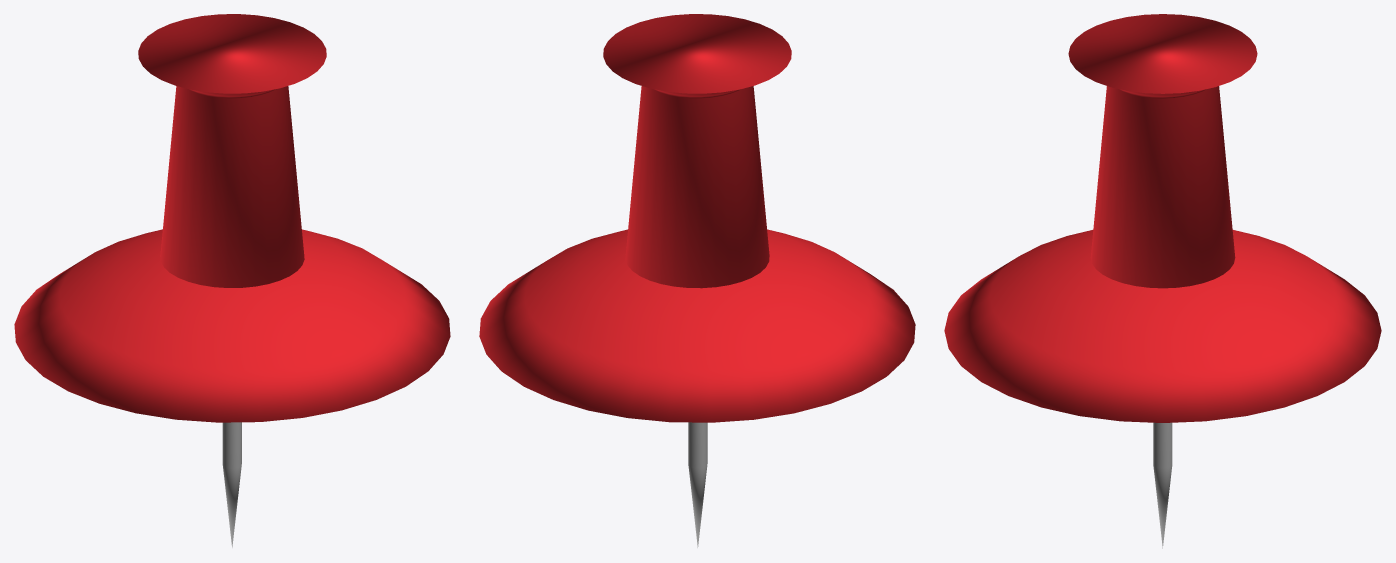
The model's file is pinLandmark.glb.
3 renders of one model, left to right at view 1: azimuth 30°, elevation 25°; view 2: azimuth 150°, elevation 25°; view 3: azimuth 270°, elevation 25°, orthographic.
Visible parts, largest first — view 1: pin, pinRecord; view 2: pin, pinRecord; view 3: pin, pinRecord.
Part boxes in pixels (x1,y1,x2,y2): pin: (14,14,450,422); pinRecord: (222,422,241,547); pin: (479,14,915,422); pinRecord: (688,422,707,547); pin: (944,14,1381,422); pinRecord: (1153,422,1172,548).
Bounding box in the file's own units: 5.81 × 7.27 × 5.81.
